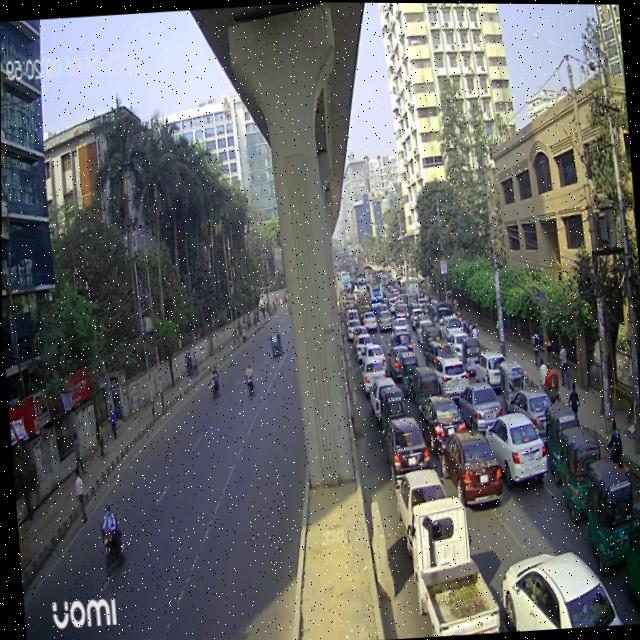cng: (579, 444, 639, 575), (555, 420, 600, 525), (539, 393, 577, 485), (618, 481, 640, 623), (412, 356, 446, 426), (397, 343, 422, 407)
